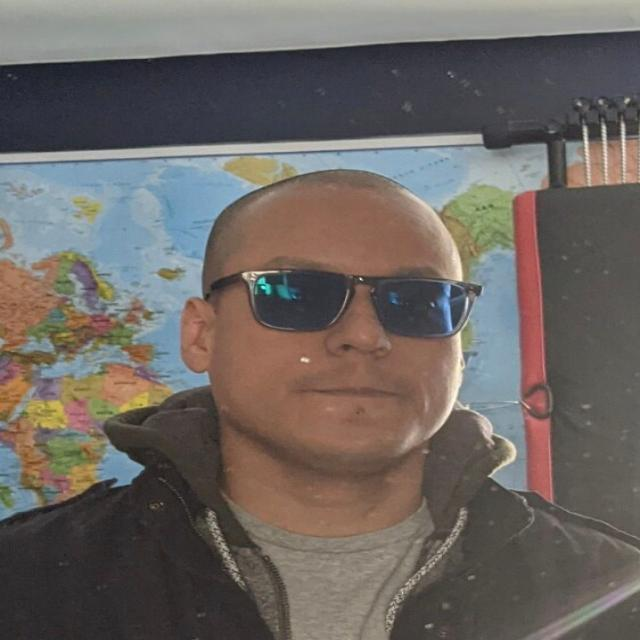2_gafas: (203, 267, 483, 339)
